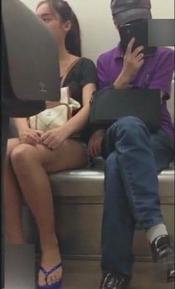face: (35, 2, 60, 51)
